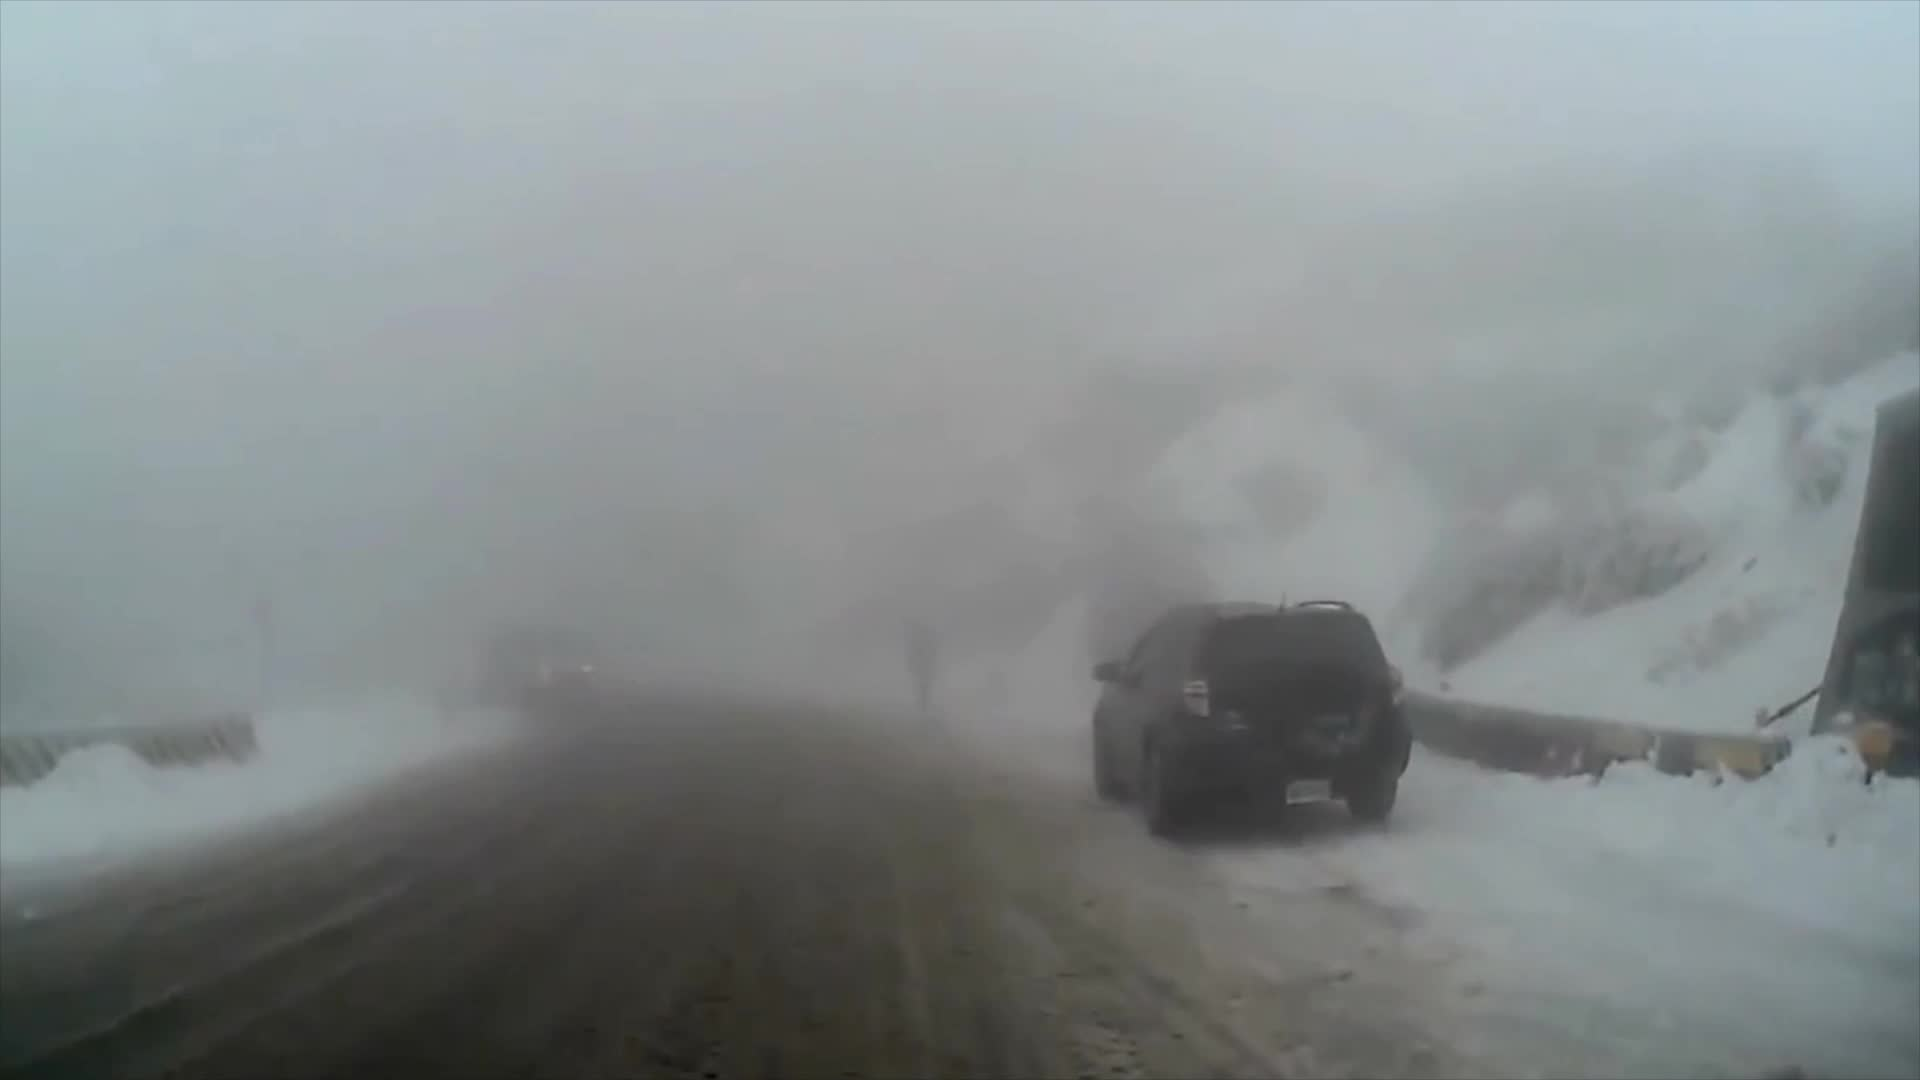vehicle: (1087, 593, 1412, 844)
